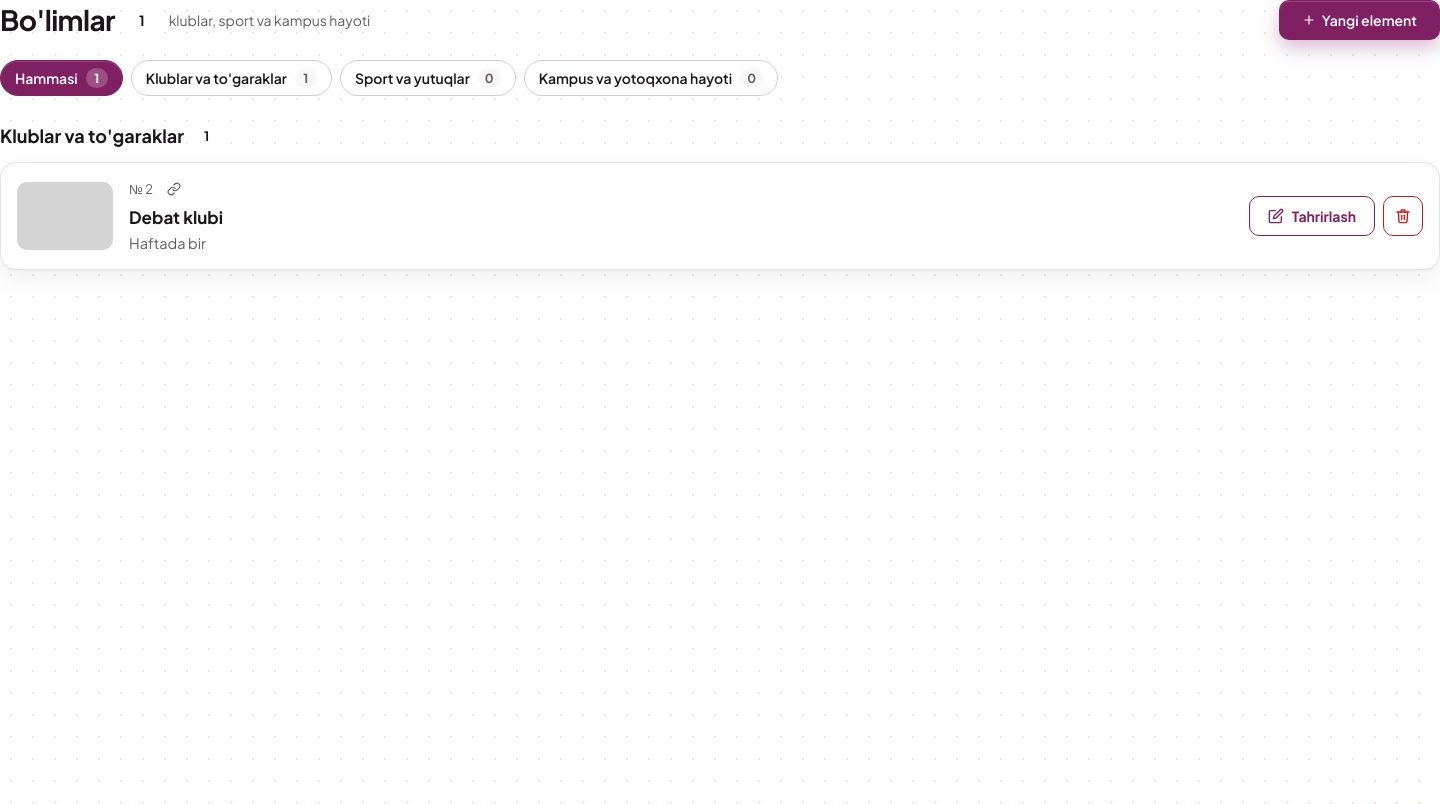
SectionsAdmin: forma › server xatosi: banner, forma va kiritilgan ma'lumot saqlanadi
Expected: the heading "Debat klubi" is shown, [129,206,223,228]
Click the button "Yangi element".
click(1359, 20)  # box [1279,0,1439,40]
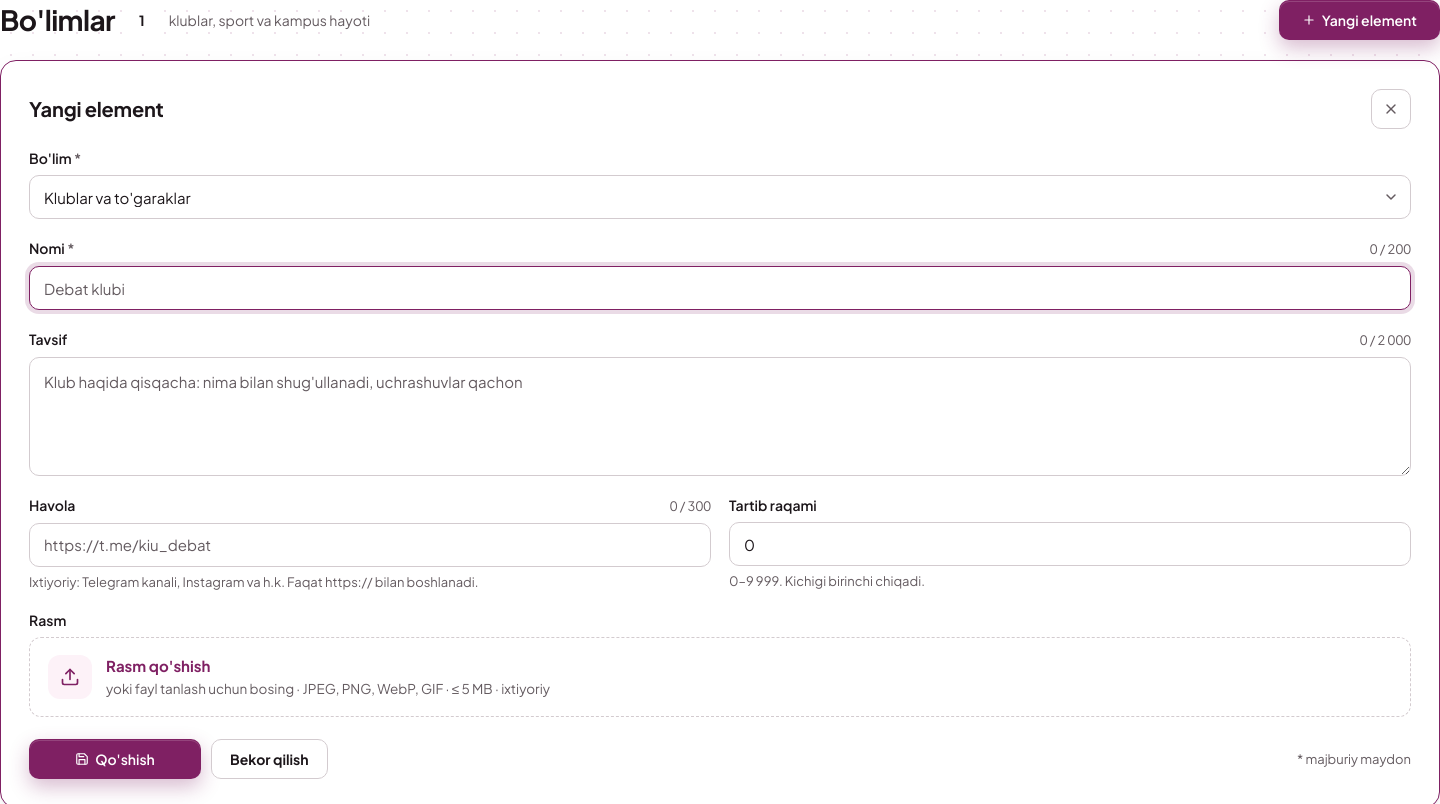
Type "Klub" into the field labelled "Nomi *".
click(720, 288); type("Klub")  # box [29,266,1411,310]
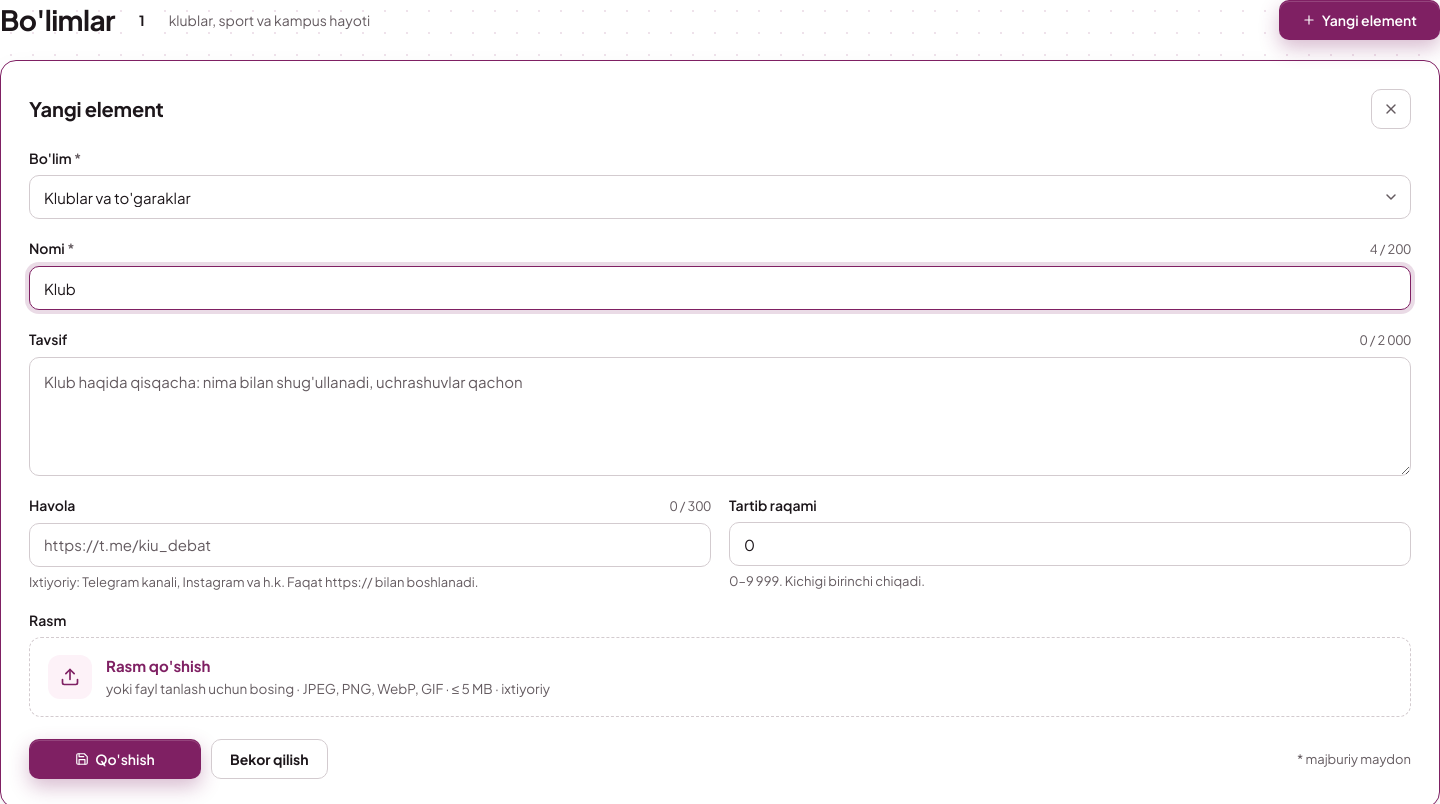
Click the button "Qo'shish".
click(115, 759)  # box [29,739,201,779]
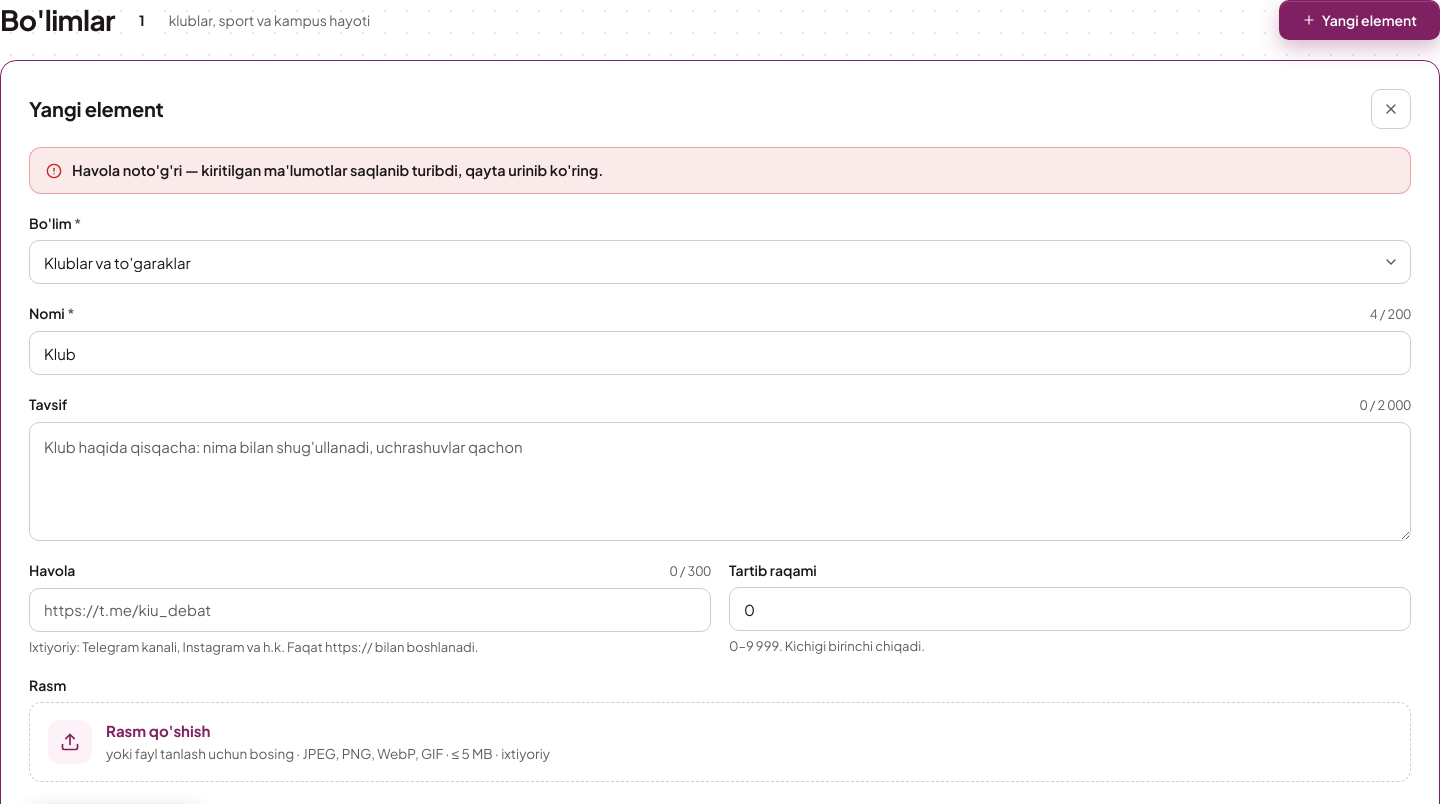
Now the text "Havola noto'g'ri — kiritilgan ma'lumotlar saqlanib turibdi" is shown, box [72,161,603,179]
